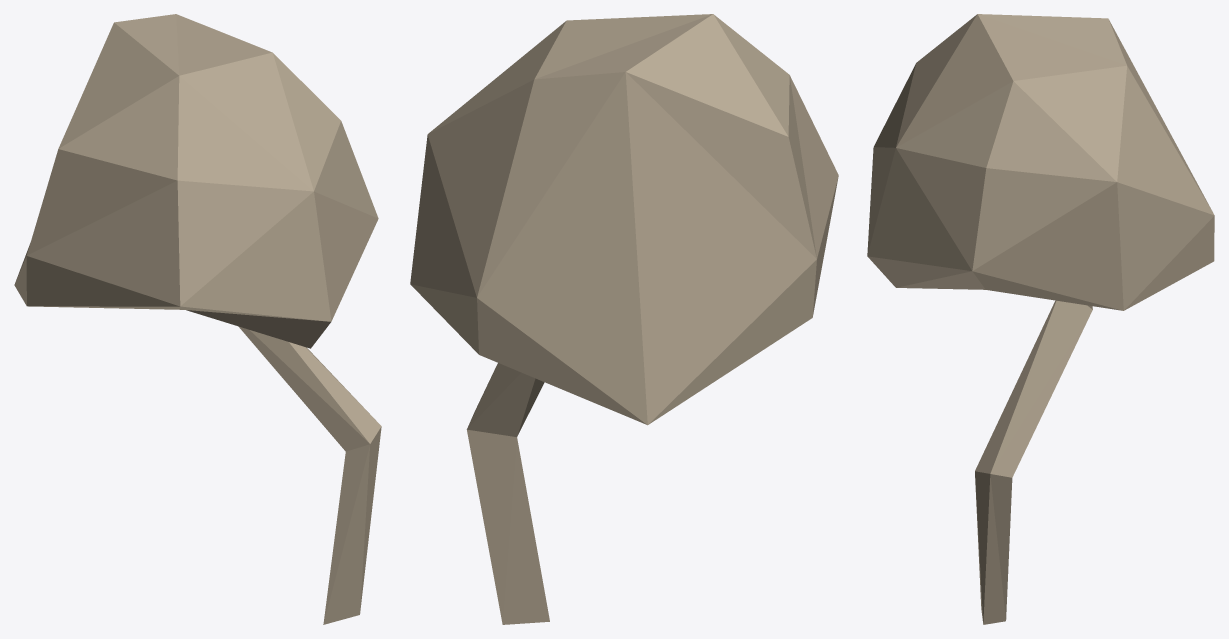
The model's file is SM_Mushroom_Brown_05.fbx.
3 views of the same model, side by side, from view 1: azimuth 30°, elevation 25°; view 2: azimuth 150°, elevation 25°; view 3: azimuth 270°, elevation 25° (orthographic). The views are drawn at different scales.
Visible parts, largest first — view 1: SM_Mushroom_Brown_05; view 2: SM_Mushroom_Brown_05; view 3: SM_Mushroom_Brown_05.
Part boxes in pixels (x1=…): SM_Mushroom_Brown_05: x1=14, y1=14, x2=381, y2=624; SM_Mushroom_Brown_05: x1=410, y1=14, x2=838, y2=624; SM_Mushroom_Brown_05: x1=867, y1=14, x2=1214, y2=624.
Bounding box in the file's own units: 25.11 × 42.26 × 25.11.
